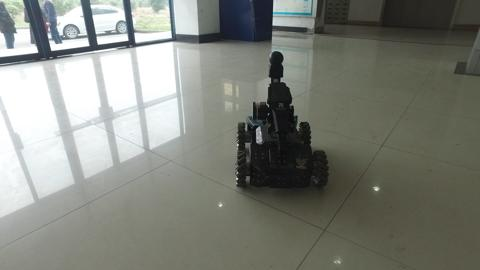car: (45, 1, 137, 40)
chariot: (234, 50, 330, 190)
